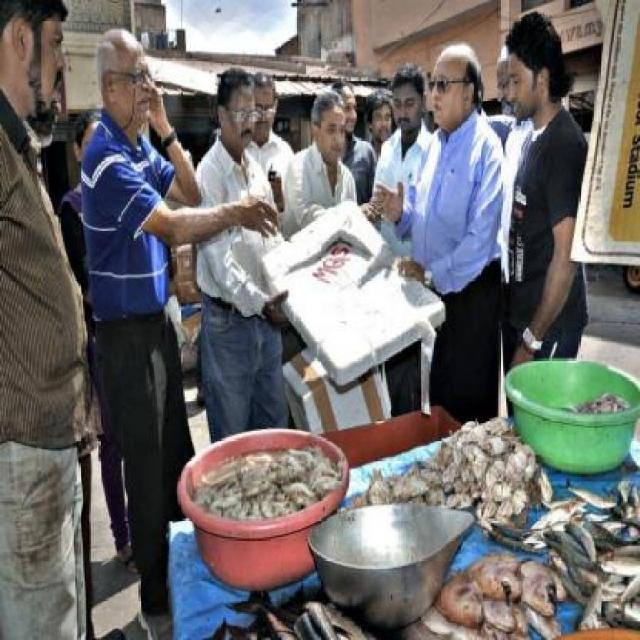garbage: (454, 560, 640, 639), (379, 448, 543, 506), (541, 478, 640, 557), (223, 588, 372, 640), (194, 457, 338, 502), (555, 380, 634, 421)
